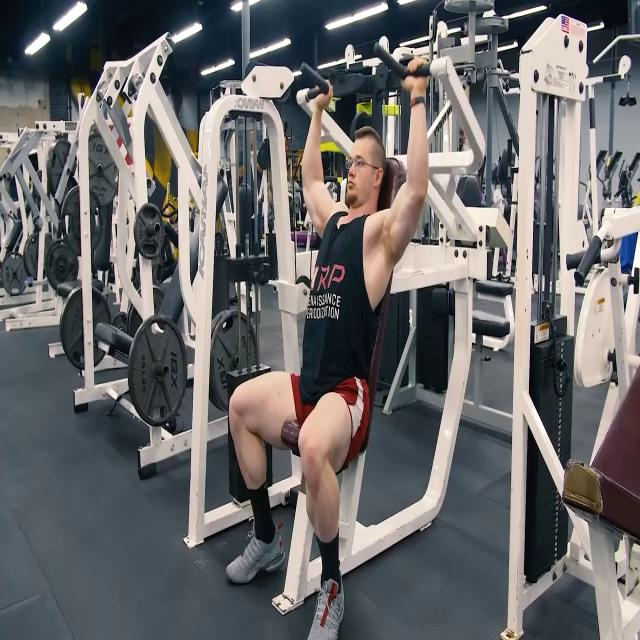Shoulder press: (215, 48, 455, 640)
